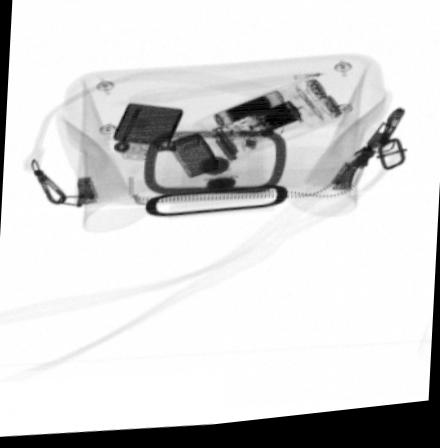Lighter: (111, 105, 219, 183)
